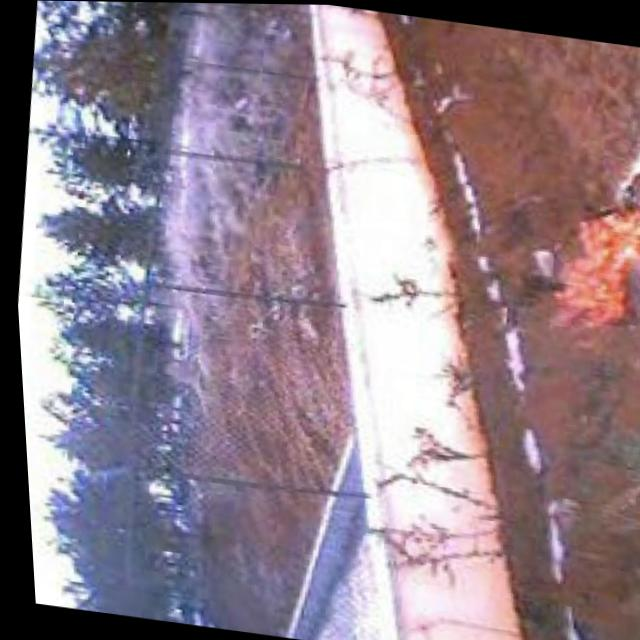Fire: (533, 162, 640, 344)
